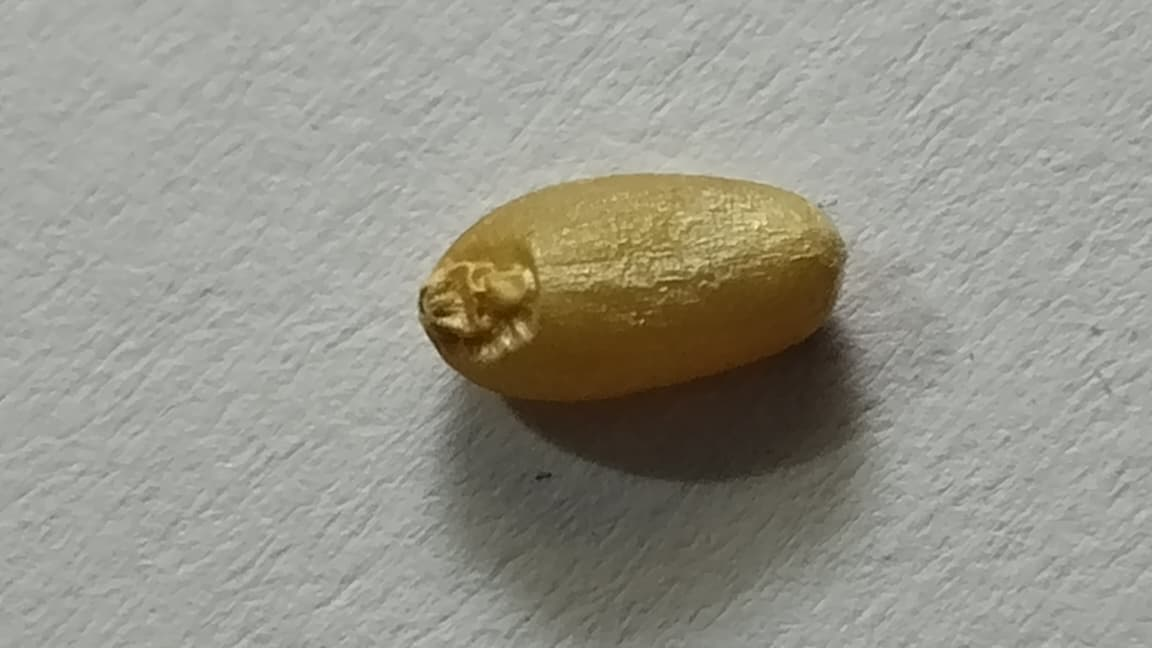healthy: (419, 174, 846, 399)
